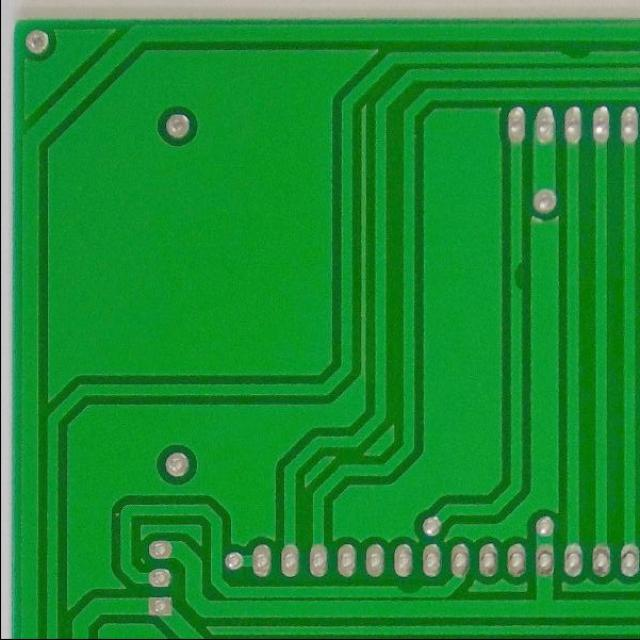MouseBite: (504, 256, 528, 296), (555, 45, 598, 65), (391, 580, 429, 600)
